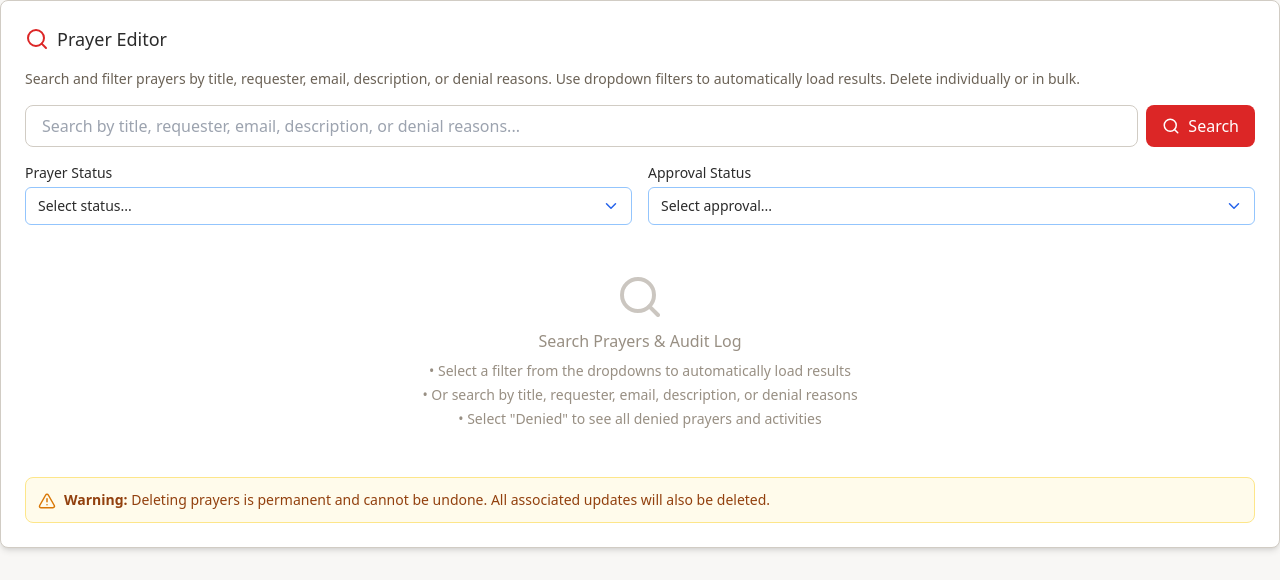
Scenario: PrayerSearch Component › Search Functionality › performs search when search button is clicked
Type "John" into the field with placeholder "Search by title, requester, email, description, or denial reasons".
click(582, 126); type("John")  # box [25,105,1138,147]
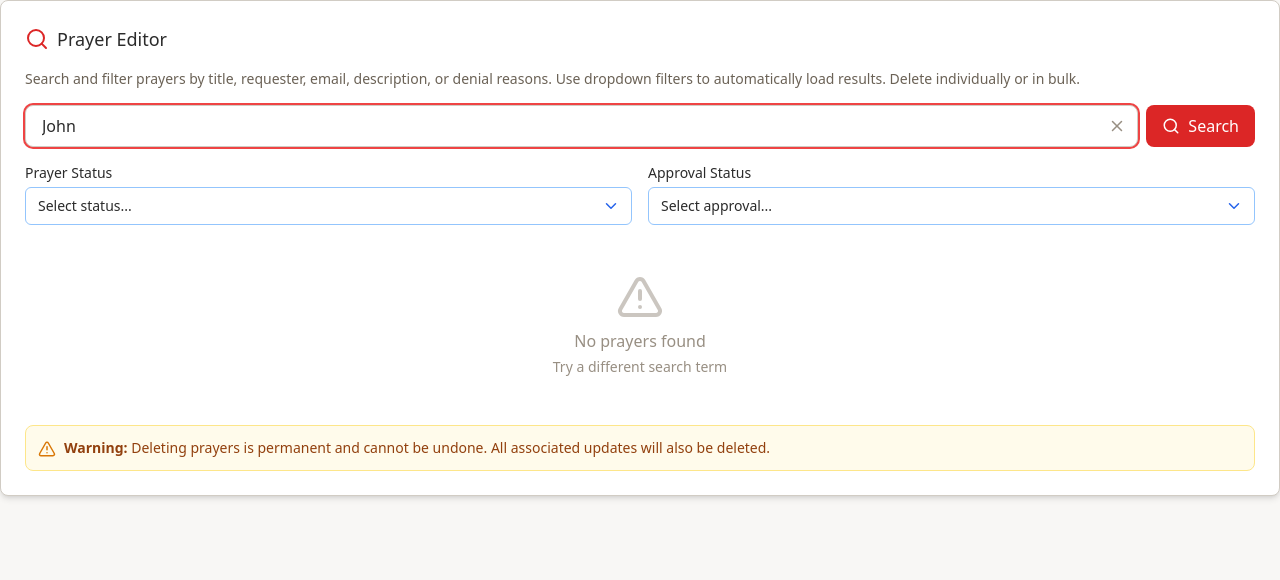
Click the button "Search".
click(1201, 126)  # box [1146,105,1255,147]
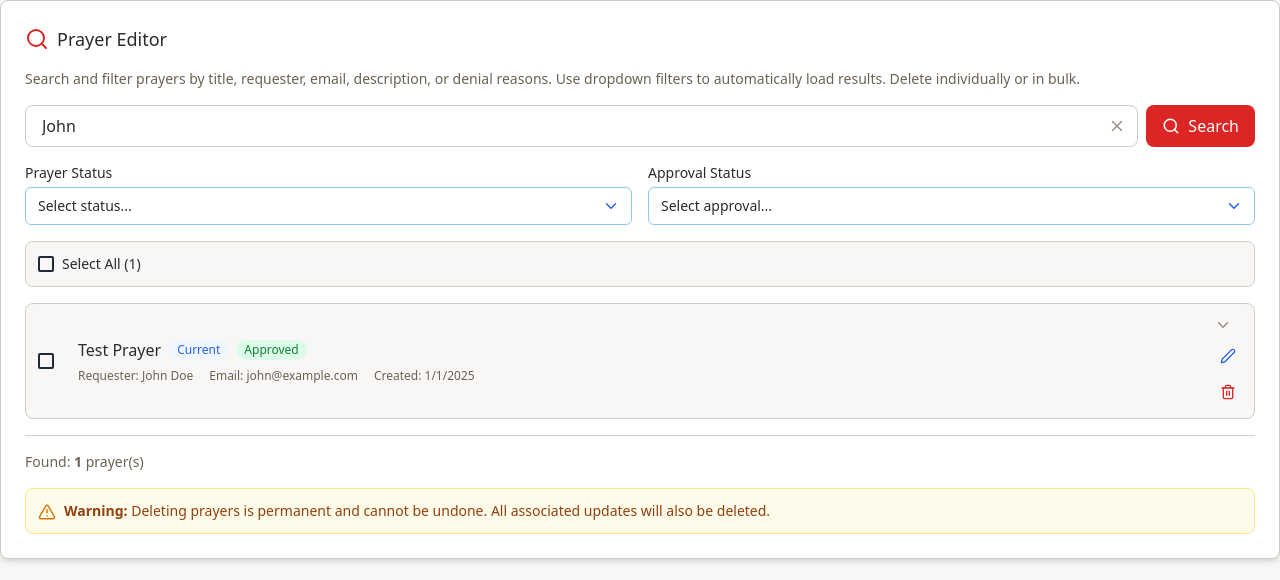
Now the heading "Test Prayer" is shown, box [78,338,161,362]
Now the text "Requester: John Doe" is shown, box [78,368,193,384]
